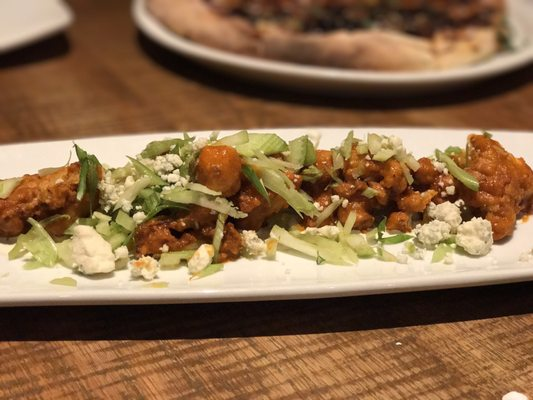curry: (0, 0, 533, 400)
sandwich: (143, 0, 530, 73)
